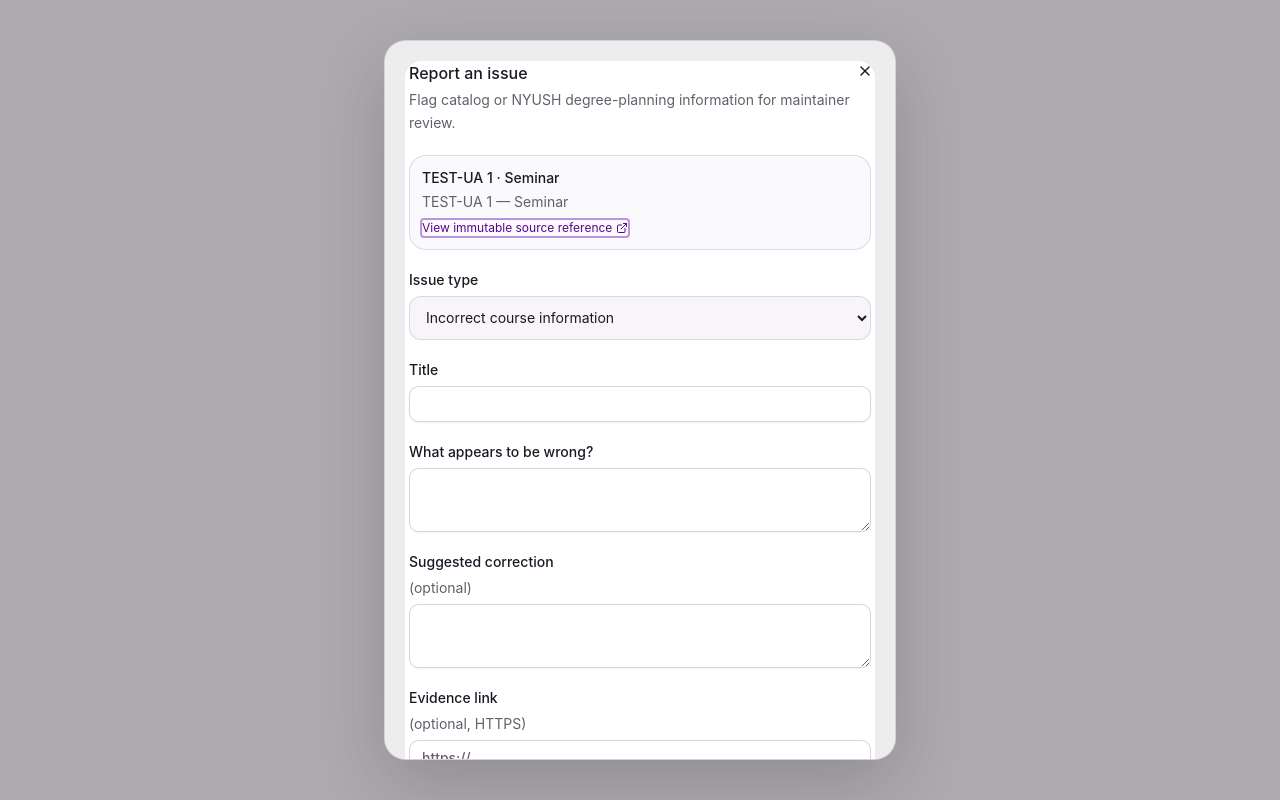
Test: ReportIssueDialog › preserves contextual source evidence and submits the typed report
The image size is (1280, 800).
expect the text "TEST-UA 1 — Seminar" is shown: met, box [422,192,568,210]
Step 1. Type "Course title mismatch" into the field labelled "Title" → (640, 404), box [409,386,871,422]
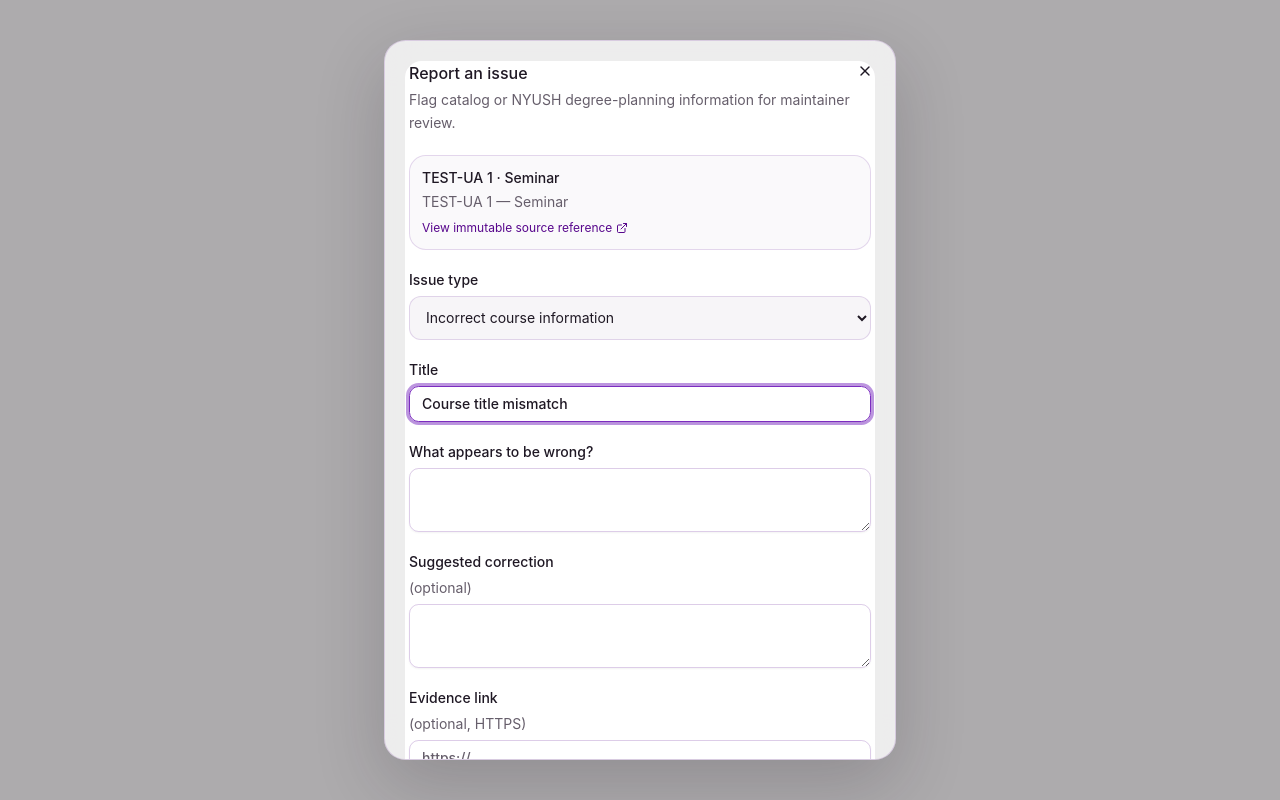
Step 2. Type "The title differs from the current official Bulletin entry." into the text box labelled "What appears to be wrong?" → (640, 500), box [409,468,871,532]
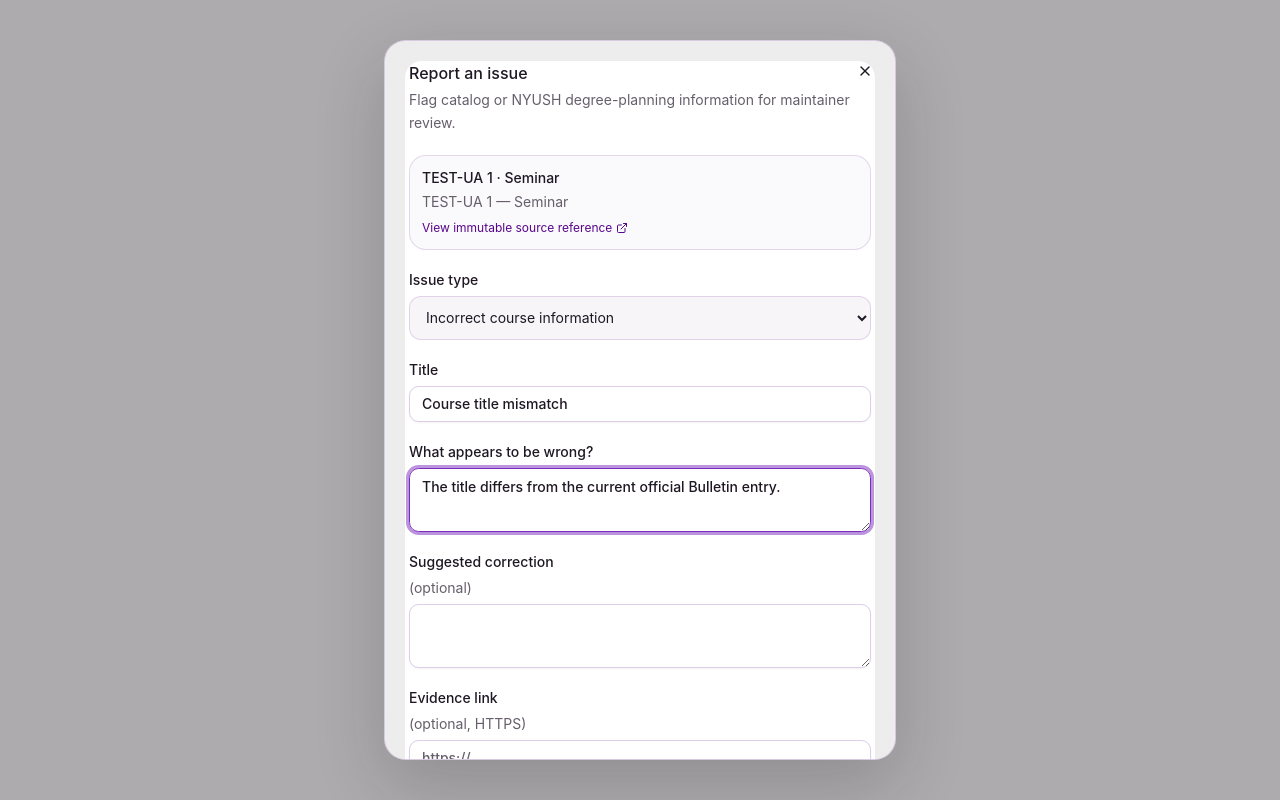
Step 3. Type "https://nyu.edu/evidence" into the field labelled "Evidence link (optional, HTTPS)" → (640, 758), box [409,740,871,776]
(page scrolled)
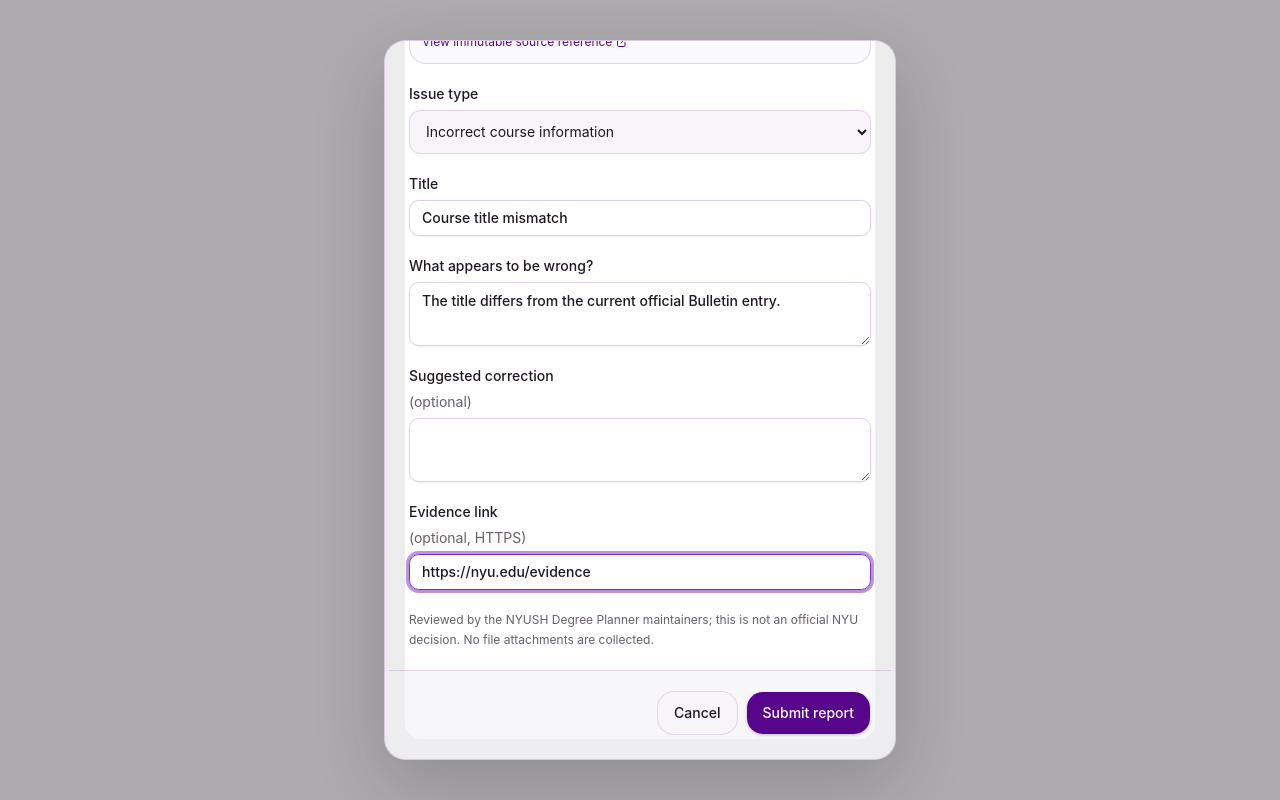
Step 4. Click the button "Submit report" → (808, 712), box [746,690,871,734]
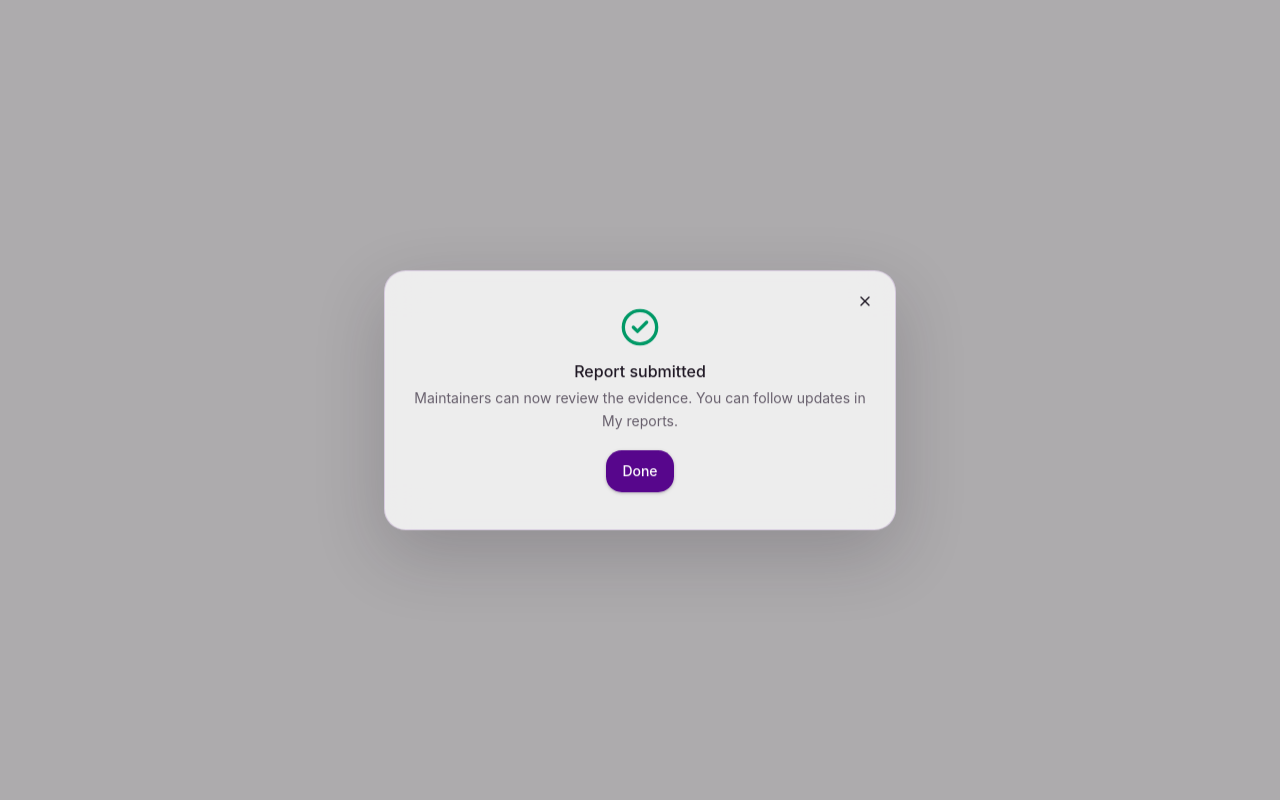
expect the heading "Report submitted" is shown: met, box [574,361,706,381]
